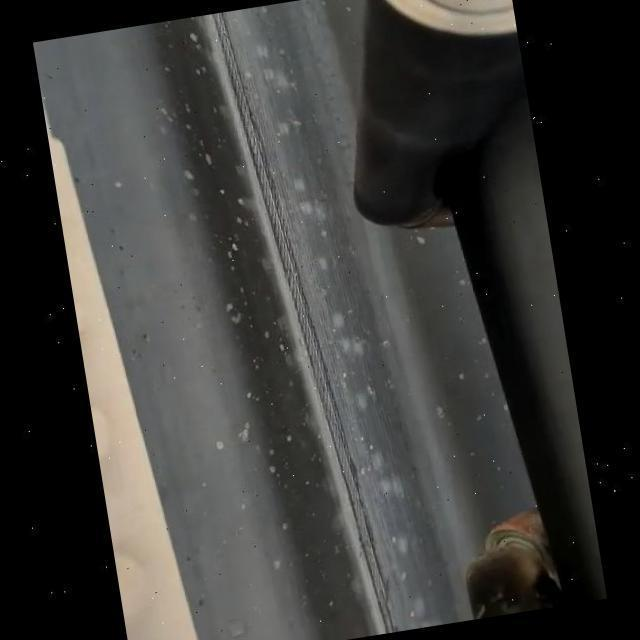Wear: (208, 12, 400, 634)
